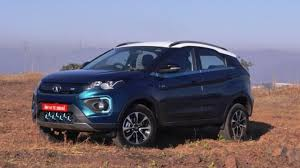Tata Nexon: (28, 37, 260, 146)
